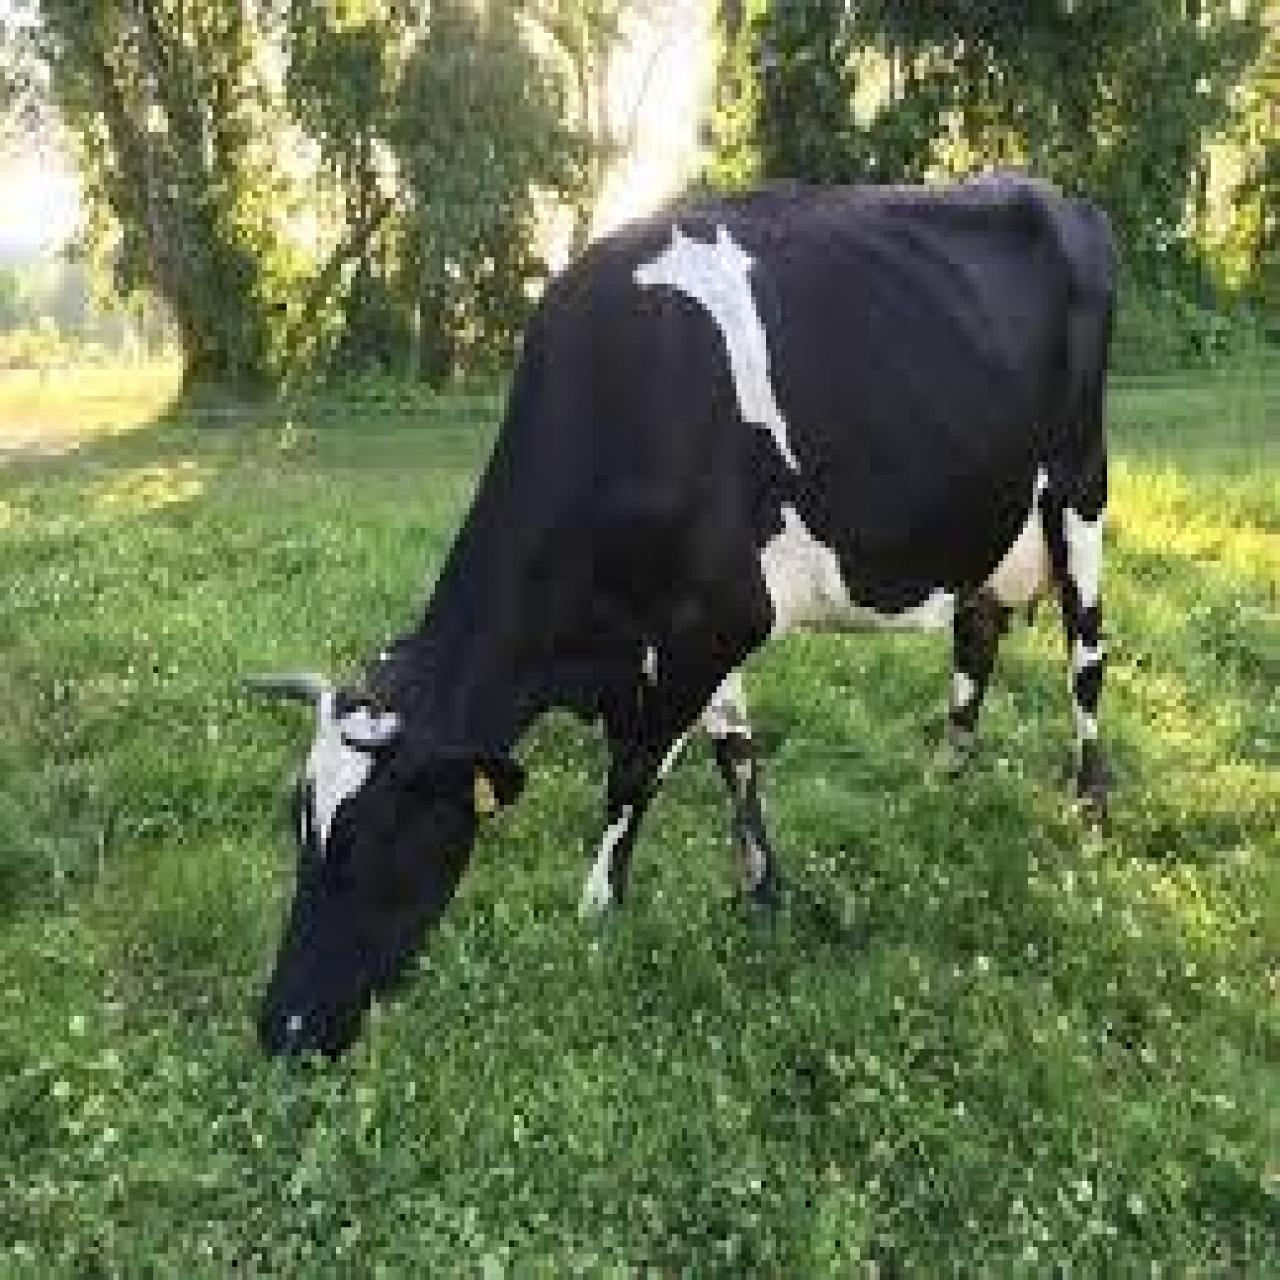cow: (240, 172, 1124, 1062)
